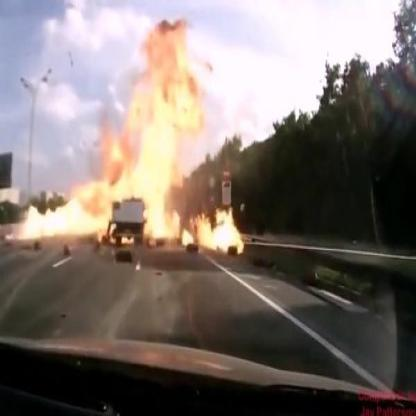fire: (15, 10, 250, 256)
